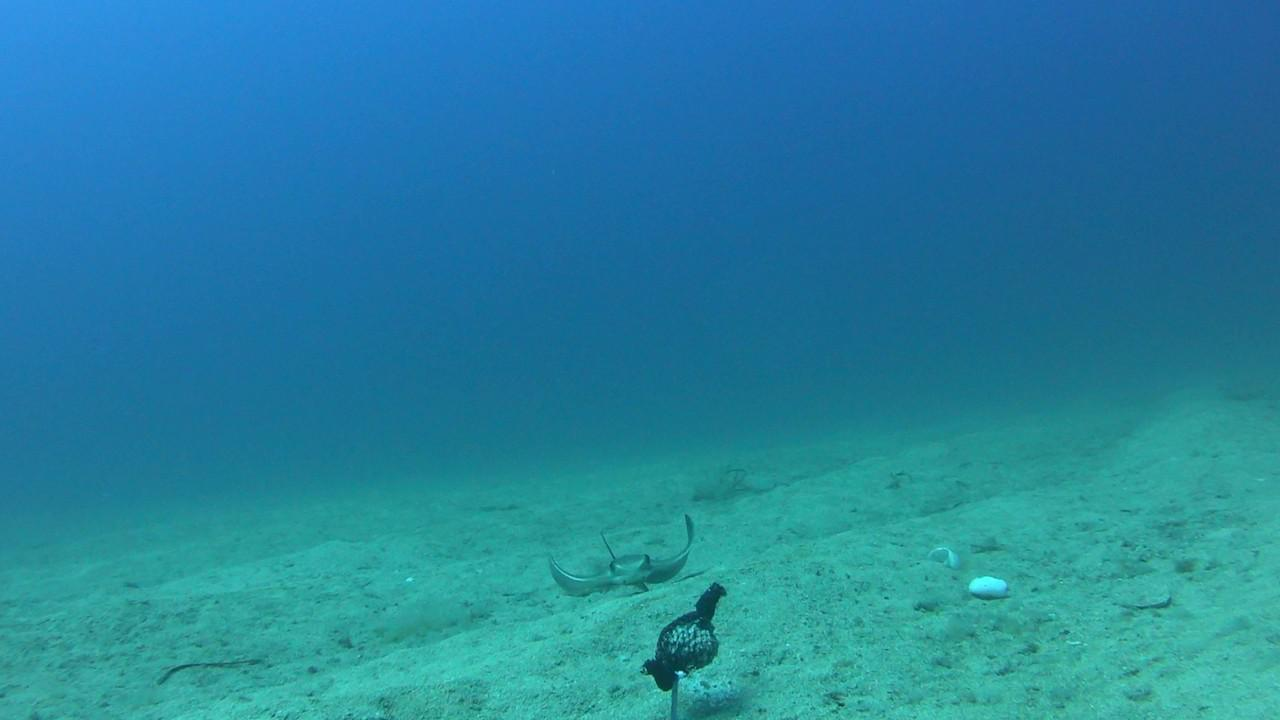myliobatis: (546, 516, 712, 592)
